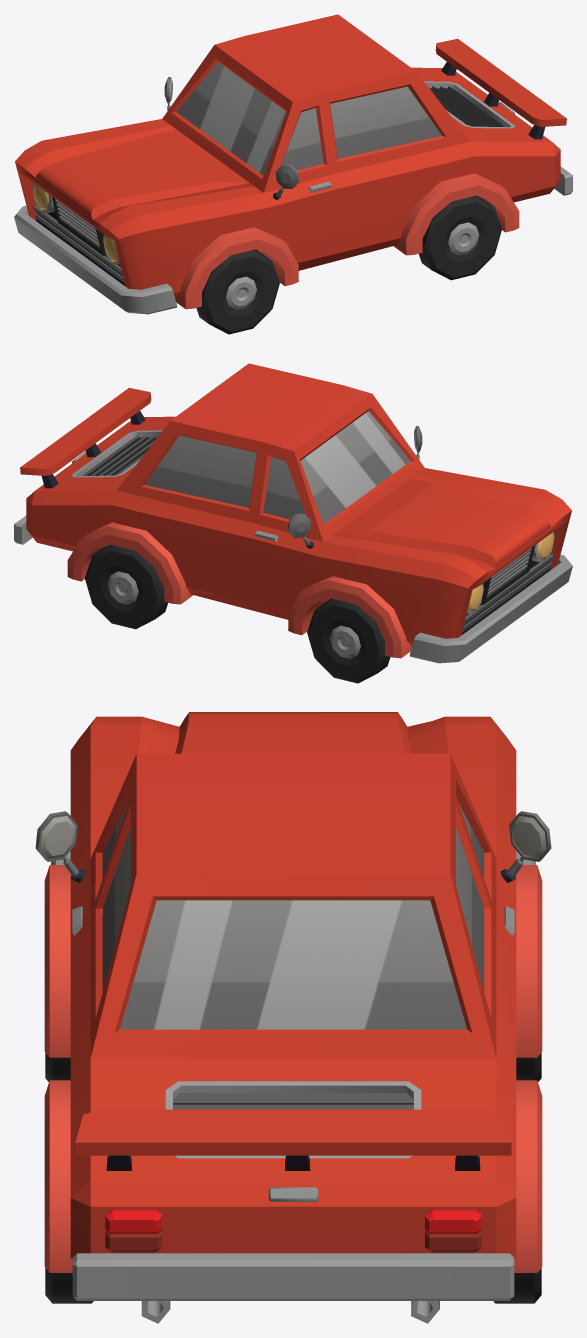
The model's file is Car_9_C.gltf.
3 views of the same model, one above another, from view 1: azimuth 30°, elevation 25°; view 2: azimuth 150°, elevation 25°; view 3: azimuth 270°, elevation 25° (orthographic). The views are drawn at different scales.
Parts seen in each view (by area): view 1: Car_9_C, RL, FL; view 2: Car_9_C, RR, FR; view 3: Car_9_C, RL, RR.
Boxes of the visible parts, x1,y1,x2,y2 form: Car_9_C: (14,14,572,314); RL: (419,195,501,280); FL: (196,249,279,334); Car_9_C: (14,363,572,663); RR: (85,544,167,629); FR: (307,598,390,683); Car_9_C: (35,712,551,1323); RL: (45,1268,93,1303); RR: (493,1268,541,1303).
Size of the model in its own units: 3.1 by 1.28 by 1.51.
4 materials, 4 textured.
